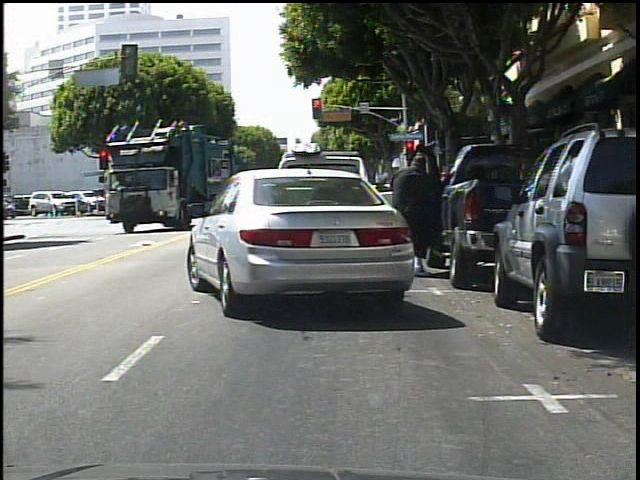person: (389, 149, 445, 281)
